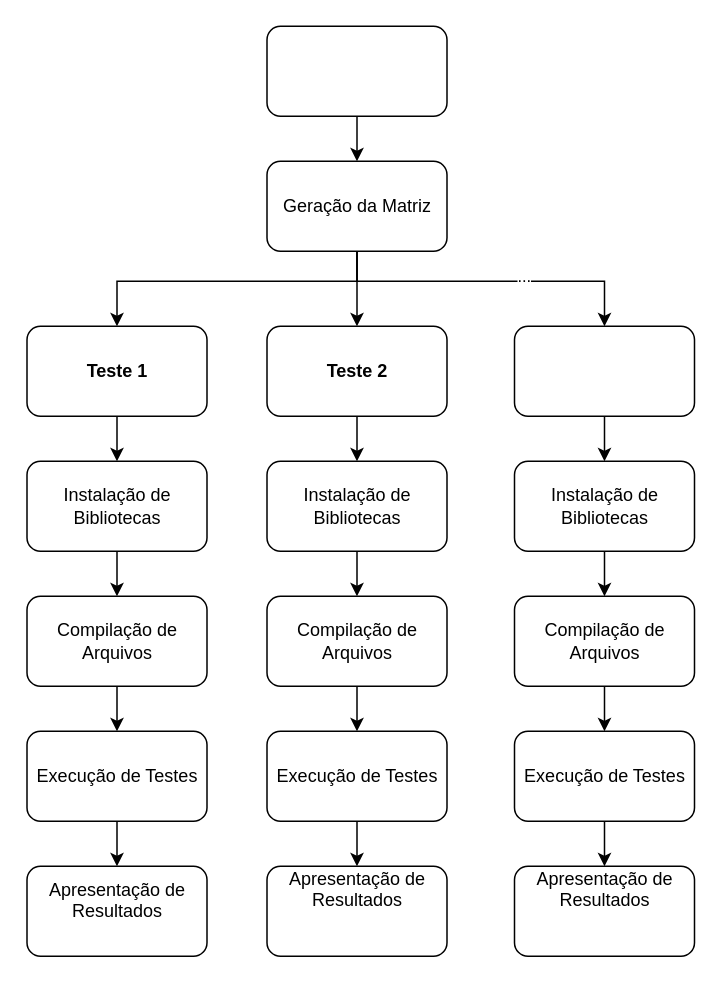
This 720x983 diagram has some shape labels left out. Here are the shapes that lost their labels. From the top down, the centre of each, then its label:
At pixel 356 70: "Início da Execução".
At pixel 603 370: "Teste n".
